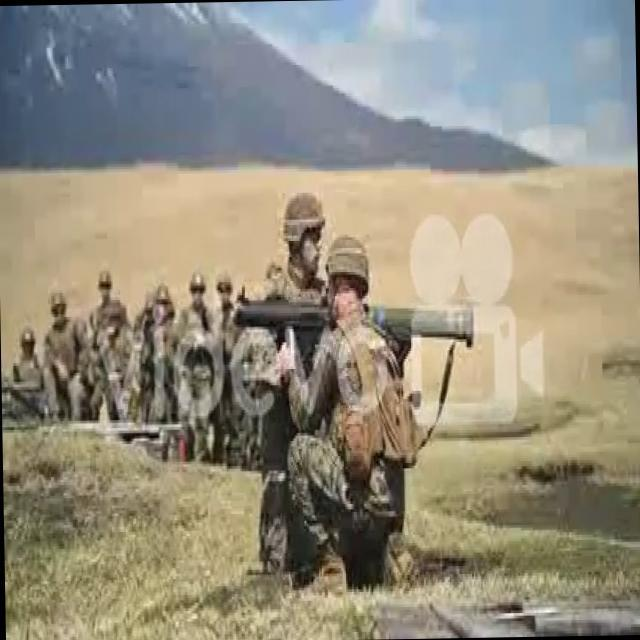rocket: (228, 293, 472, 351)
